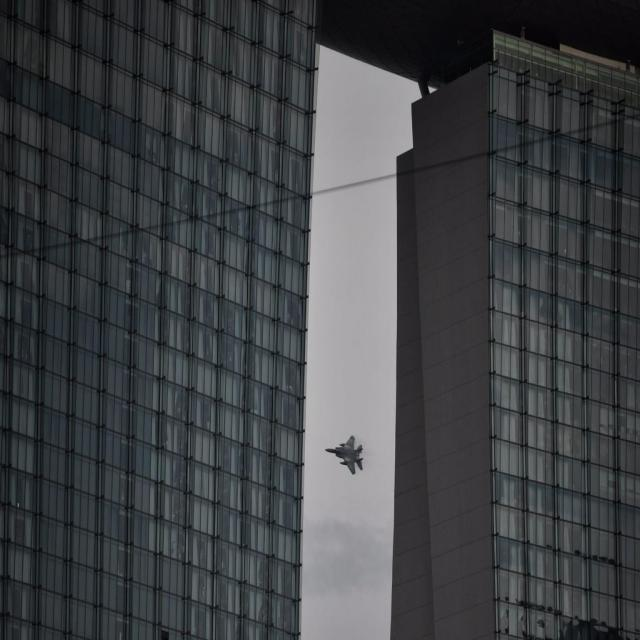MIL_Plane: (324, 435, 364, 474)
